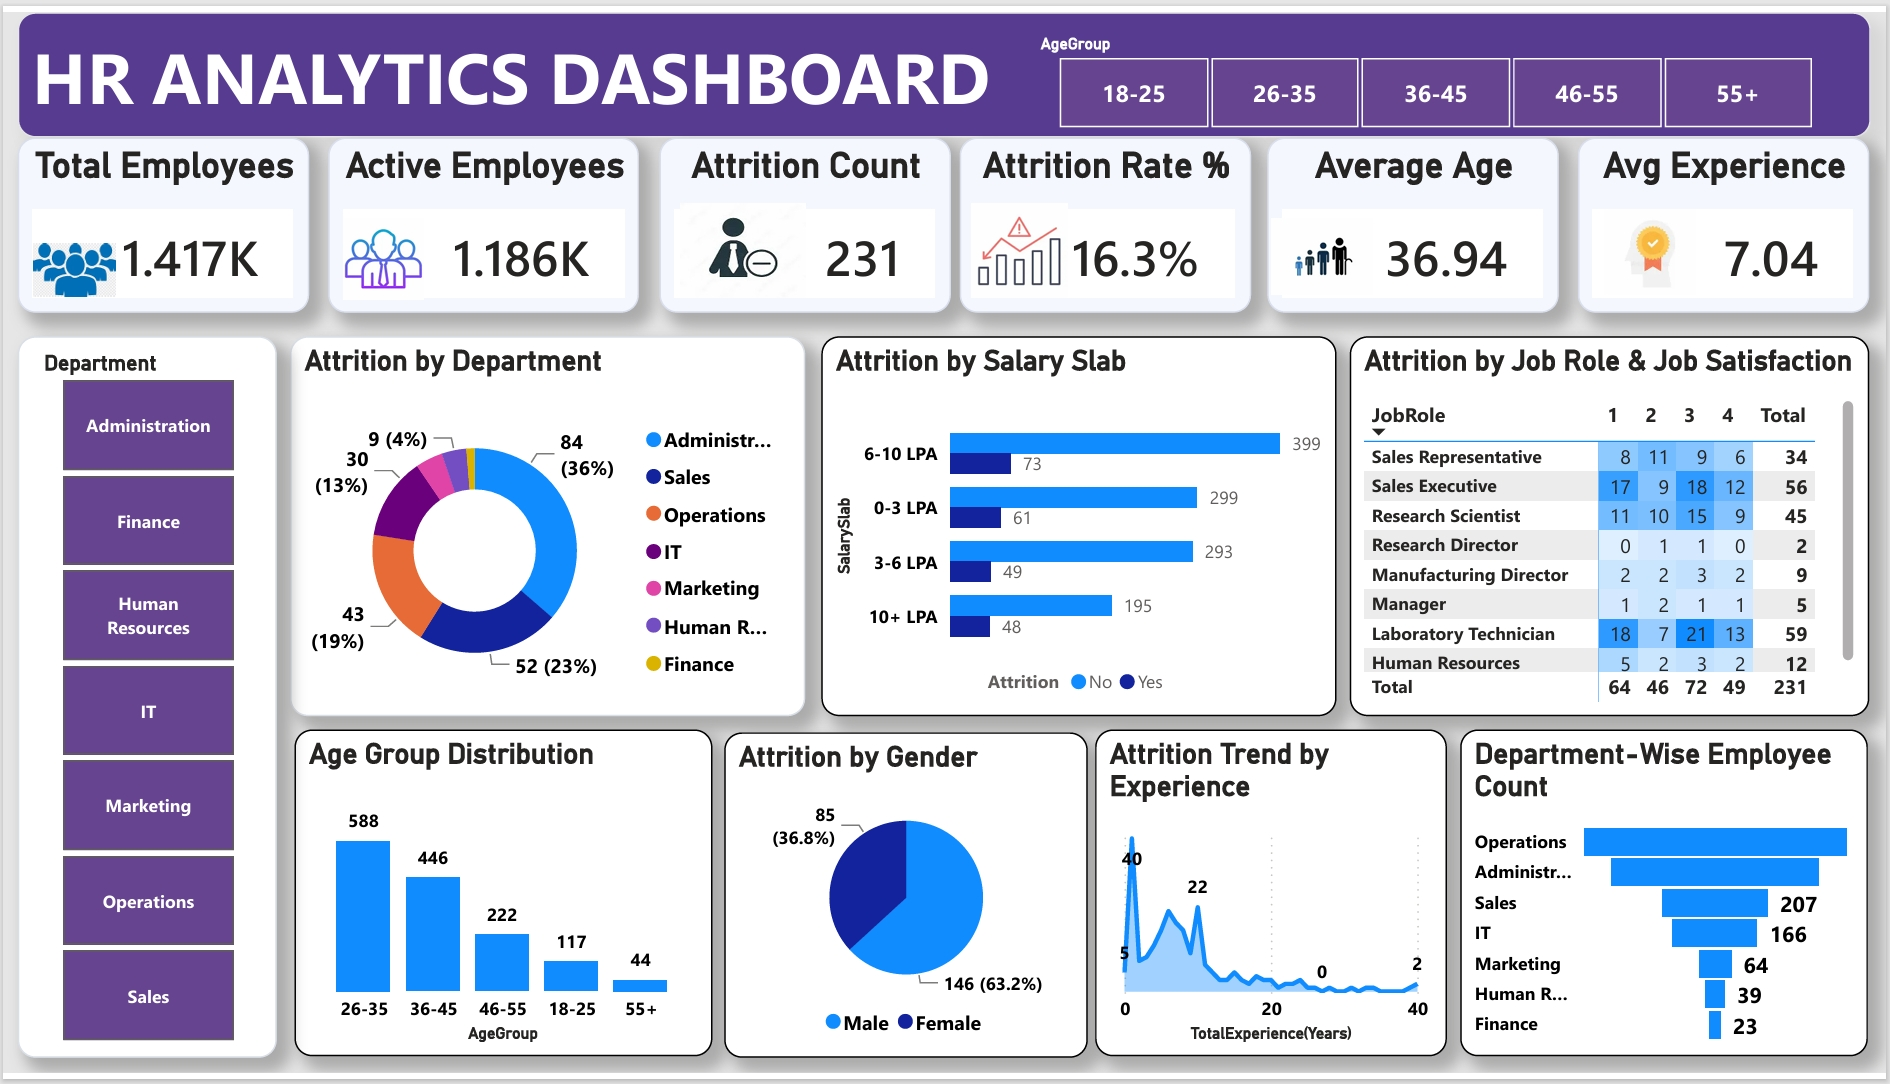

The page's visual inventory and layout, read from the dashboard file:
{"tool":"powerbi","page":{"name":"Page 1","canvas":[1280,720],"ordinal":0},"visuals":[{"type":"textbox","box":[10,0,1259,85],"z":0},{"type":"cardVisual","title":"Total Employees","fields":{"Data":["CountNonNull(HR_Analytics-4.EmpID)"]},"box":[9.6,85.1,197.6,119.4],"z":1},{"type":"cardVisual","title":"Active Employees","fields":{"Data":["CountNonNull(HR_Analytics-4.EmployeeCount)"]},"box":[220.9,85.1,211.3,119.4],"z":3},{"type":"cardVisual","title":"Attrition Count","fields":{"Data":["Sum(HR_Analytics-4.AttritionCount)"]},"box":[446,85.1,197.6,119.4],"z":4},{"type":"cardVisual","title":"Attrition Rate %","fields":{"Data":["HR_Analytics-4.Attrition Rate %"]},"box":[650.4,85.1,197.6,119.4],"z":5},{"type":"cardVisual","title":"Average Age","fields":{"Data":["Avg(HR_Analytics-4.Age)"]},"box":[859,85.1,197.6,119.4],"z":6},{"type":"cardVisual","title":"Avg Experience","fields":{"Data":["Avg(HR_Analytics-4.YearsatCompany)"]},"box":[1070.3,85.1,197.6,119.4],"z":7},{"type":"image","box":[20.6,142.7,56.3,64.5],"z":8},{"type":"image","box":[1081.3,134.5,75.5,57.6],"z":10},{"type":"image","box":[220.9,140,75.5,54.9],"z":11},{"type":"image","box":[848.1,139.9,96.5,51.9],"z":12},{"type":"image","box":[459.7,130.4,85.1,64.5],"z":13},{"type":"image","box":[650.4,130.4,81,64.5],"z":14},{"type":"donutChart","title":"Attrition by Department","fields":{"Category":["HR_Analytics-4.Department"],"Y":["Sum(HR_Analytics-4.AttritionCount)"]},"box":[194.9,219.6,349.9,258],"z":15},{"type":"clusteredBarChart","title":"Attrition by Salary Slab","fields":{"Category":["HR_Analytics-4.SalarySlab"],"Series":["HR_Analytics-4.Attrition"],"Y":["CountNonNull(HR_Analytics-4.EmpID)"]},"box":[555.7,219.6,349.9,258],"z":16},{"type":"pivotTable","title":"Attrition by Job Role & Job Satisfaction","fields":{"Columns":["HR_Analytics-4.JobSatisfaction"],"Rows":["HR_Analytics-4.JobRole"],"Values":["Sum(HR_Analytics-4.AttritionCount)"]},"box":[915.3,219.6,352.7,258],"z":17},{"type":"columnChart","title":"Age Group Distribution","fields":{"Category":["HR_Analytics-4.AgeGroup"],"Y":["Sum(HR_Analytics-4.EmployeeCount)"]},"box":[197.9,487.4,283.5,222],"z":18},{"type":"pieChart","title":"Attrition by Gender","fields":{"Category":["HR_Analytics-4.Gender"],"Y":["Sum(HR_Analytics-4.AttritionCount)"]},"box":[489.8,488.6,247.3,220.8],"z":19},{"type":"areaChart","title":"Attrition Trend by Experience","fields":{"Category":["HR_Analytics-4.TotalExperience(Years)"],"Y":["Sum(HR_Analytics-4.AttritionCount)"]},"box":[742,487.4,238.9,222],"z":20},{"type":"funnel","title":"Department-Wise Employee Count","fields":{"Category":["HR_Analytics-4.Department"],"Y":["CountNonNull(HR_Analytics-4.EmpID)"]},"box":[990.5,487.4,277.5,222],"z":21},{"type":"slicer","fields":{"Values":["HR_Analytics-4.Department"]},"box":[9.6,219.6,175.6,489.9],"z":22},{"type":"slicer","fields":{"Values":["HR_Analytics-4.AgeGroup"]},"box":[691.6,9.6,561.2,75.5],"z":23}]}

Visuals, with their boxes in screenshot pixels (x1, y1, x2, y2), scaled from the page's 1280x720 canvas onto the 1890x1084 screenshot:
textbox: bbox=(15, 0, 1874, 128)
"Total Employees" cardVisual: bbox=(14, 128, 306, 308)
"Active Employees" cardVisual: bbox=(326, 128, 638, 308)
"Attrition Count" cardVisual: bbox=(659, 128, 950, 308)
"Attrition Rate %" cardVisual: bbox=(960, 128, 1252, 308)
"Average Age" cardVisual: bbox=(1268, 128, 1560, 308)
"Avg Experience" cardVisual: bbox=(1580, 128, 1872, 308)
image: bbox=(30, 215, 114, 312)
image: bbox=(1597, 202, 1708, 289)
image: bbox=(326, 211, 438, 293)
image: bbox=(1252, 211, 1395, 289)
image: bbox=(679, 196, 804, 293)
image: bbox=(960, 196, 1080, 293)
"Attrition by Department" donutChart: bbox=(288, 331, 804, 719)
"Attrition by Salary Slab" clusteredBarChart: bbox=(821, 331, 1337, 719)
"Attrition by Job Role & Job Satisfaction" pivotTable: bbox=(1351, 331, 1872, 719)
"Age Group Distribution" columnChart: bbox=(292, 734, 711, 1068)
"Attrition by Gender" pieChart: bbox=(723, 736, 1088, 1068)
"Attrition Trend by Experience" areaChart: bbox=(1096, 734, 1448, 1068)
"Department-Wise Employee Count" funnel: bbox=(1463, 734, 1872, 1068)
slicer - HR_Analytics-4.Department: bbox=(14, 331, 273, 1068)
slicer - HR_Analytics-4.AgeGroup: bbox=(1021, 14, 1850, 128)
